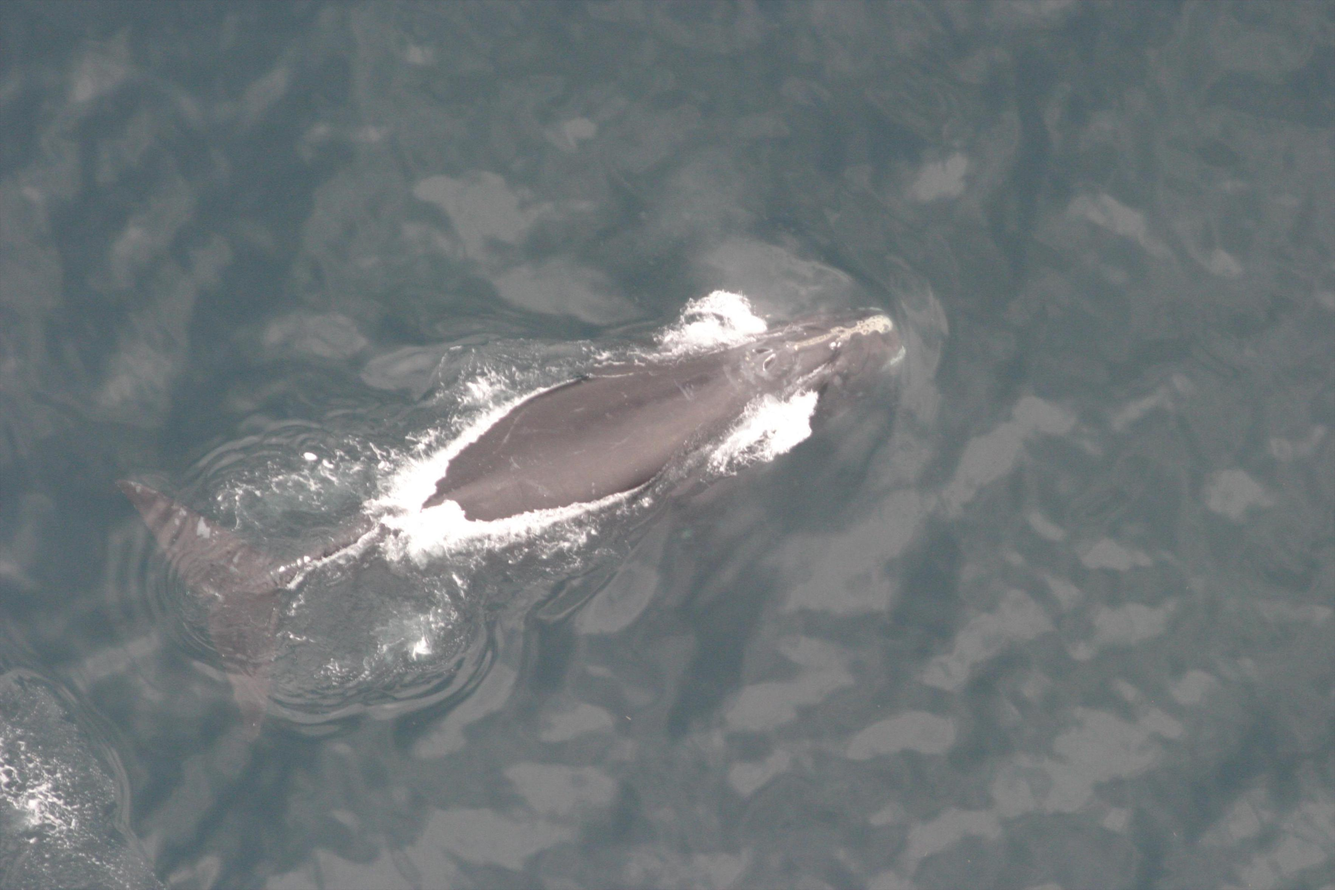whale: (111, 295, 917, 749)
